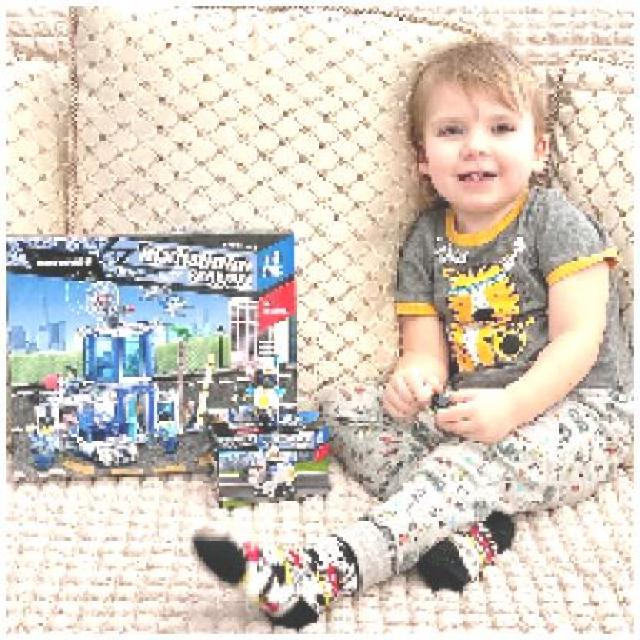child: (190, 39, 633, 632)
